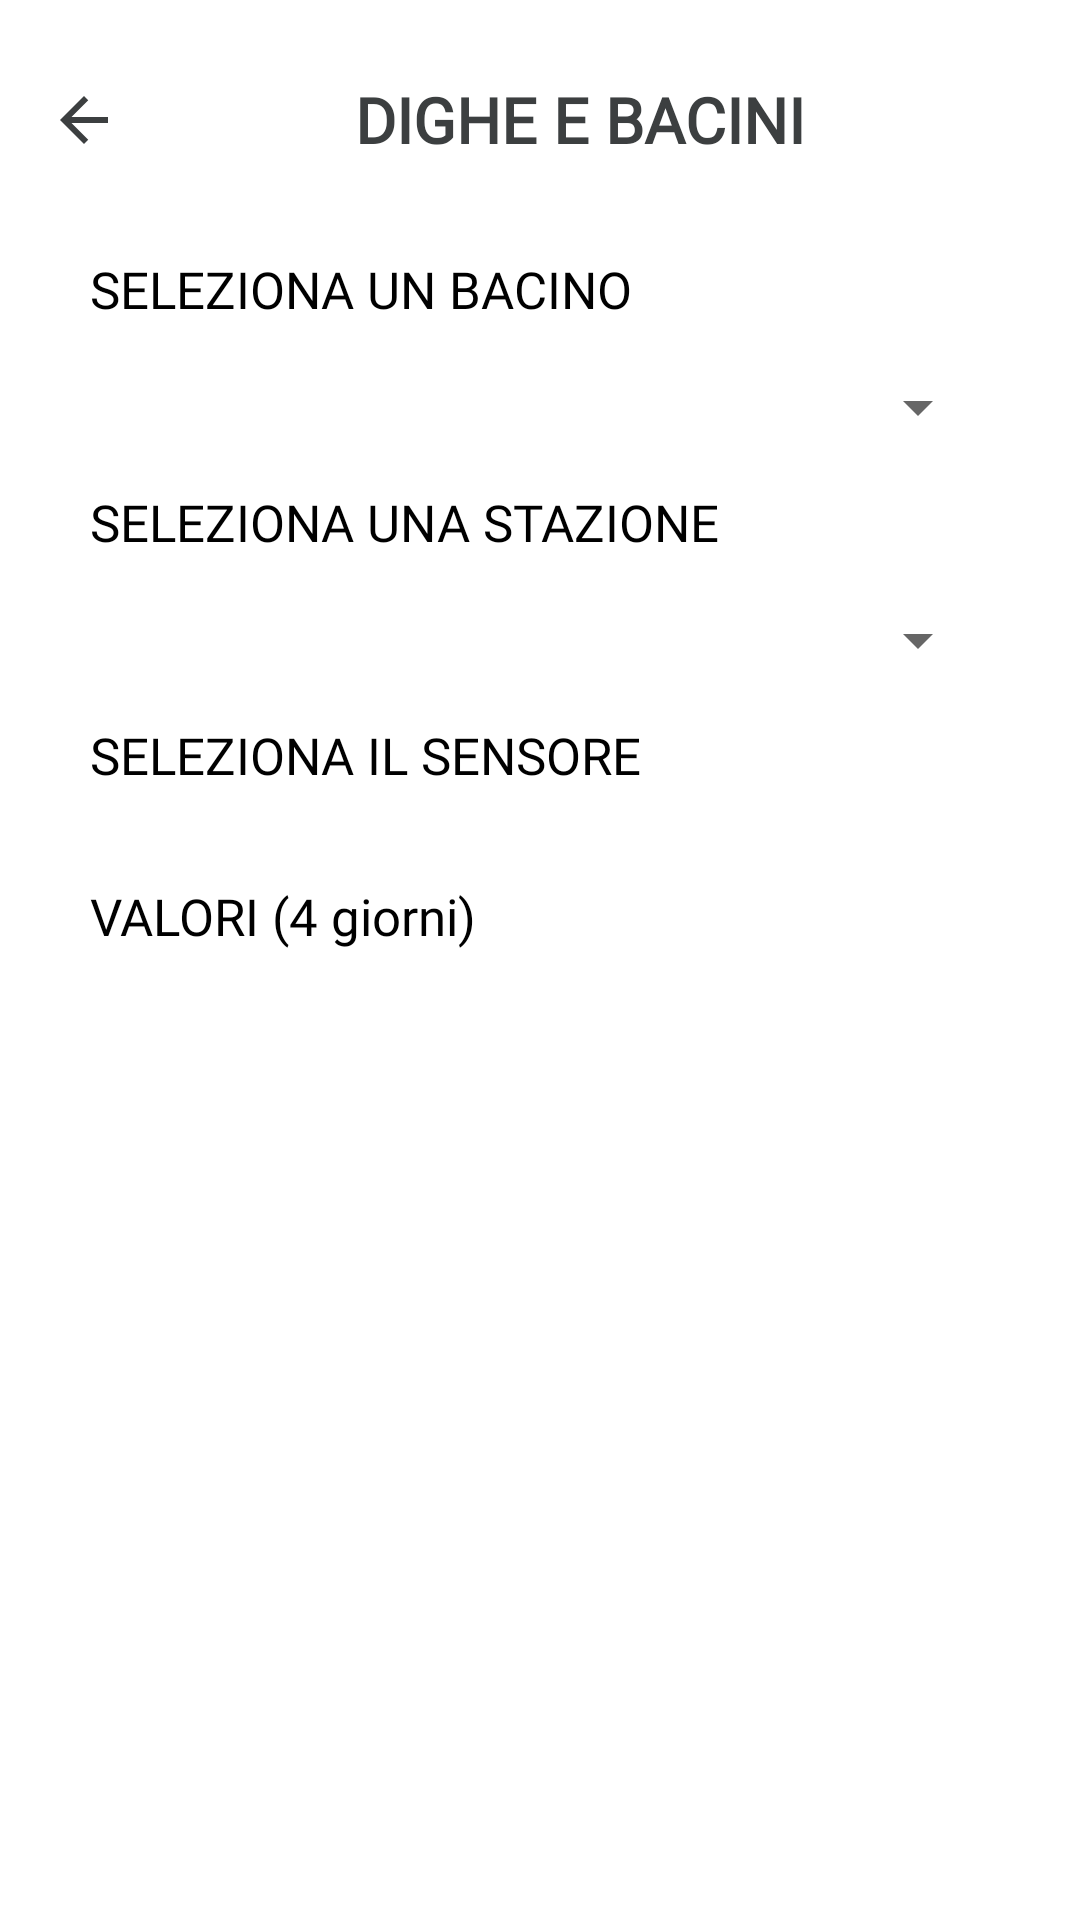

Named icons in this screenshot (1080px×1920px) and their centers, (x,y):
arrow back: (84,120)
